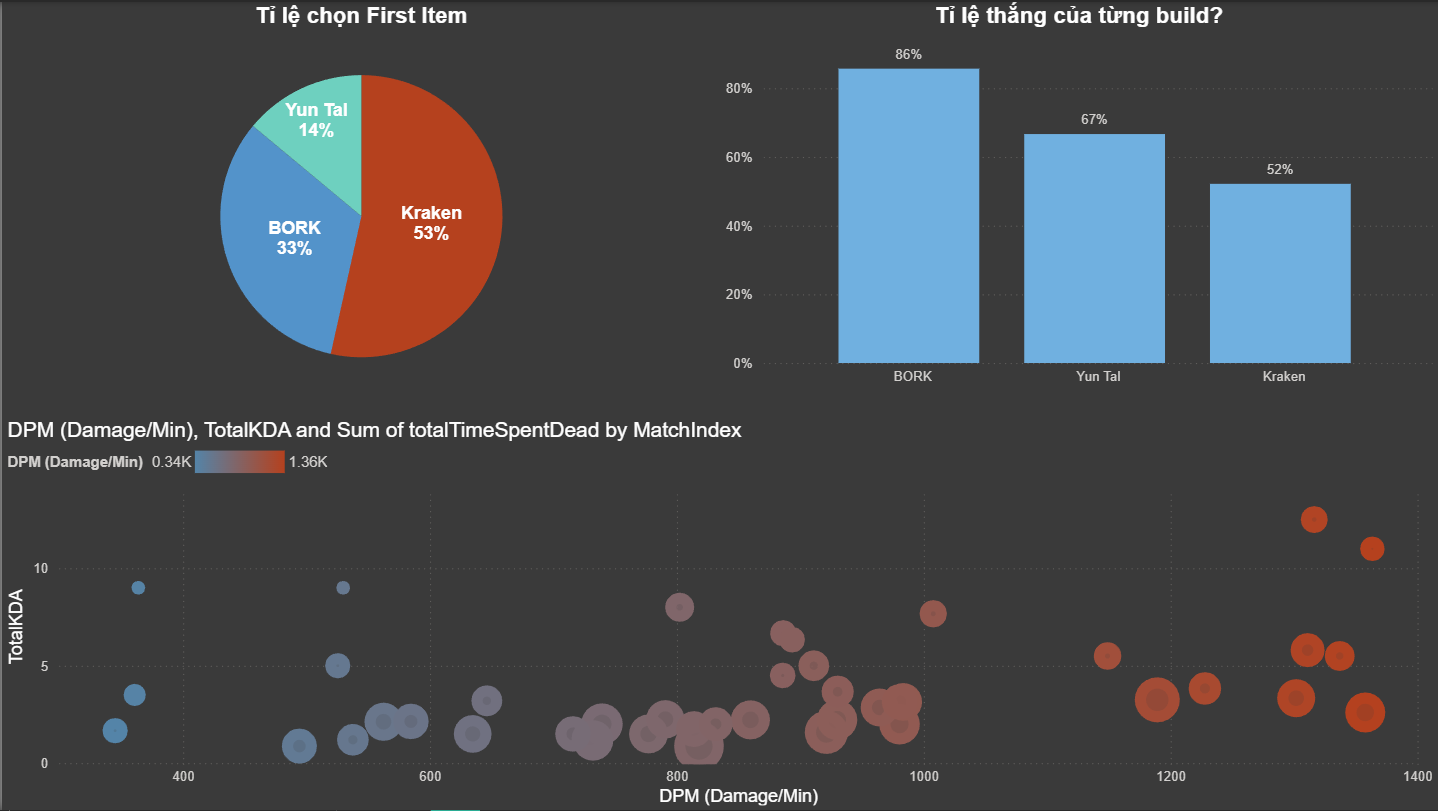

The dashboard page shown, as its layout file describes it:
{"tool":"powerbi","page":{"name":"Page 1","canvas":[1280,720],"ordinal":1},"visuals":[{"type":"pieChart","title":"Tỉ lệ chọn First Item","fields":{"Category":["RawMatches.First_Core_Item"],"Y":["CountNonNull(RawMatches.First_Core_Item)"]},"box":[0,0,640.5,359.5],"z":0},{"type":"clusteredColumnChart","title":"Tỉ lệ thắng của từng build?","fields":{"Category":["RawMatches.First_Core_Item"],"Y":["_Core KPIs.WinRate"]},"box":[639.3,0,640.5,349.7],"z":1000},{"type":"scatterChart","fields":{"X":["_Advanced Carry Metrics.DPM (Damage/Min)"],"Y":["_Core KPIs.TotalKDA"],"Category":["RawMatches.MatchIndex"],"Size":["Sum(RawMatches.totalTimeSpentDead)"]},"box":[0,370.6,1279.8,349.7],"z":2000}]}

Visuals, with their boxes in screenshot pixels (x1, y1, x2, y2), scaled from the page's 1280x720 canvas onto the 1438x811 screenshot:
"Tỉ lệ chọn First Item" pieChart: [0,0,720,405]
"Tỉ lệ thắng của từng build?" clusteredColumnChart: [718,0,1437,394]
scatterChart - _Advanced Carry Metrics.DPM (Damage/Min) x _Core KPIs.TotalKDA: [0,417,1437,810]
